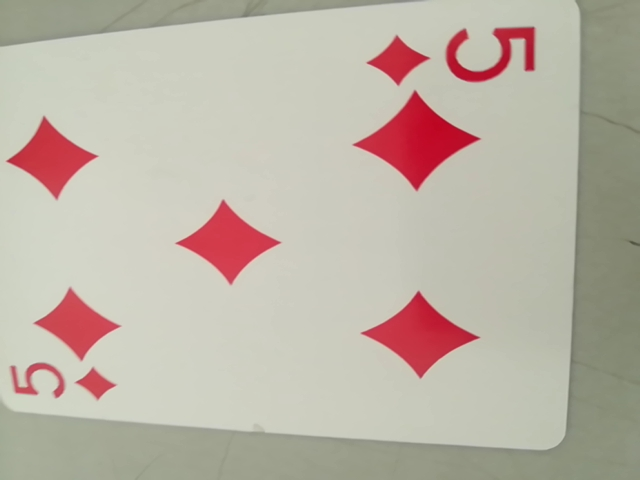fk 5: (369, 18, 539, 91), (4, 357, 119, 412)
